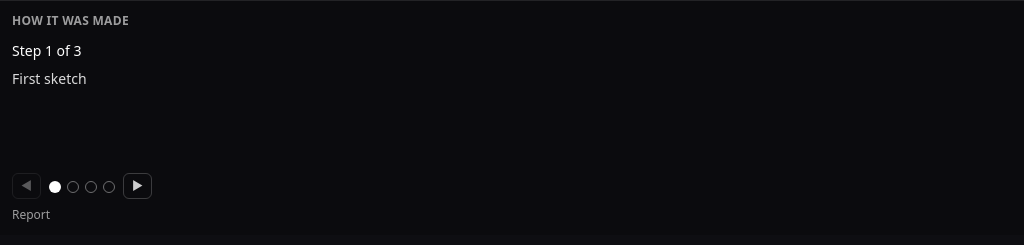
ProcessTimeline: walking through › shows one step at a time, then the finished piece, and goes back
Expected: the text "Step 1 of 3" is shown, [12, 41, 82, 60]
Expected: the text "First sketch" is shown, [12, 69, 87, 88]
Click the button named "Next step". click: click(138, 186)
box: [123, 173, 152, 199]
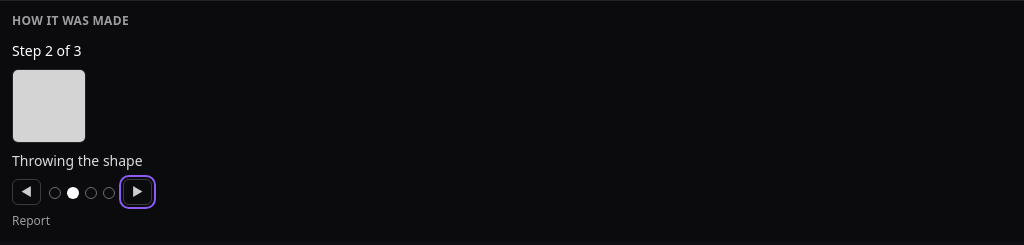
Result: the text "Step 2 of 3" is shown at [12, 41, 82, 60]
Result: the text "Throwing the shape" is shown at [12, 151, 143, 170]
Click the button named "Go to the finished piece". click: click(109, 193)
box: [103, 187, 115, 199]
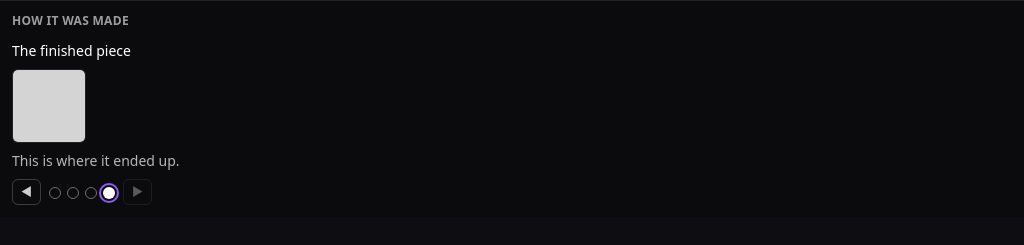
Result: the text "The finished piece" is shown at [12, 41, 131, 60]
Result: the button named "Next step" is disabled at [123, 179, 152, 205]
Click the button named "Go to step 1". click: click(55, 193)
box: [49, 187, 61, 199]
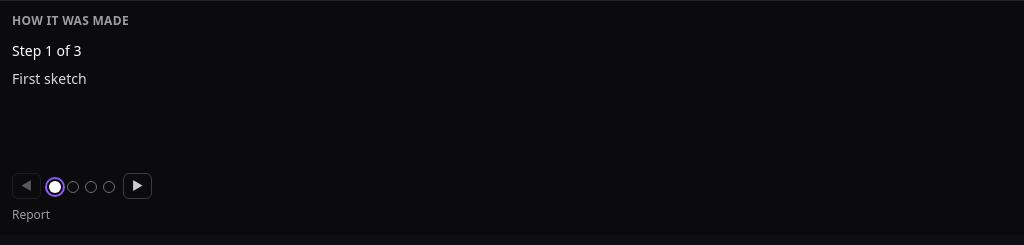
Result: the text "Step 1 of 3" is shown at [12, 41, 82, 60]
